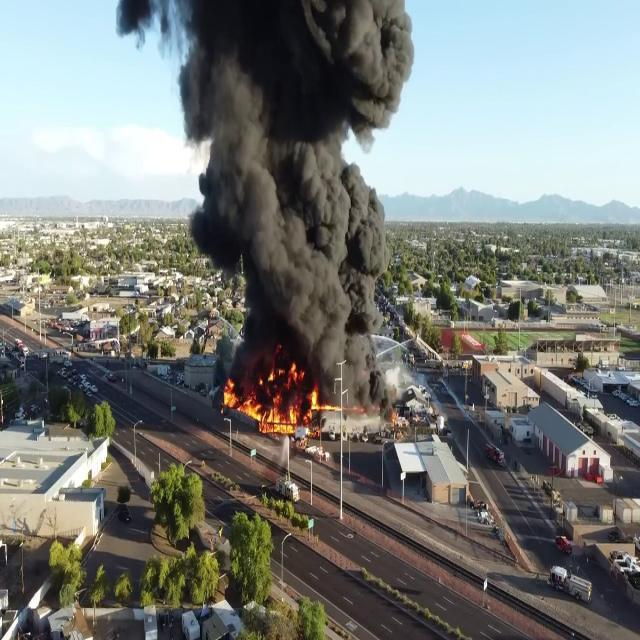Fire: (226, 360, 316, 435)
Smoke: (166, 0, 424, 387)
